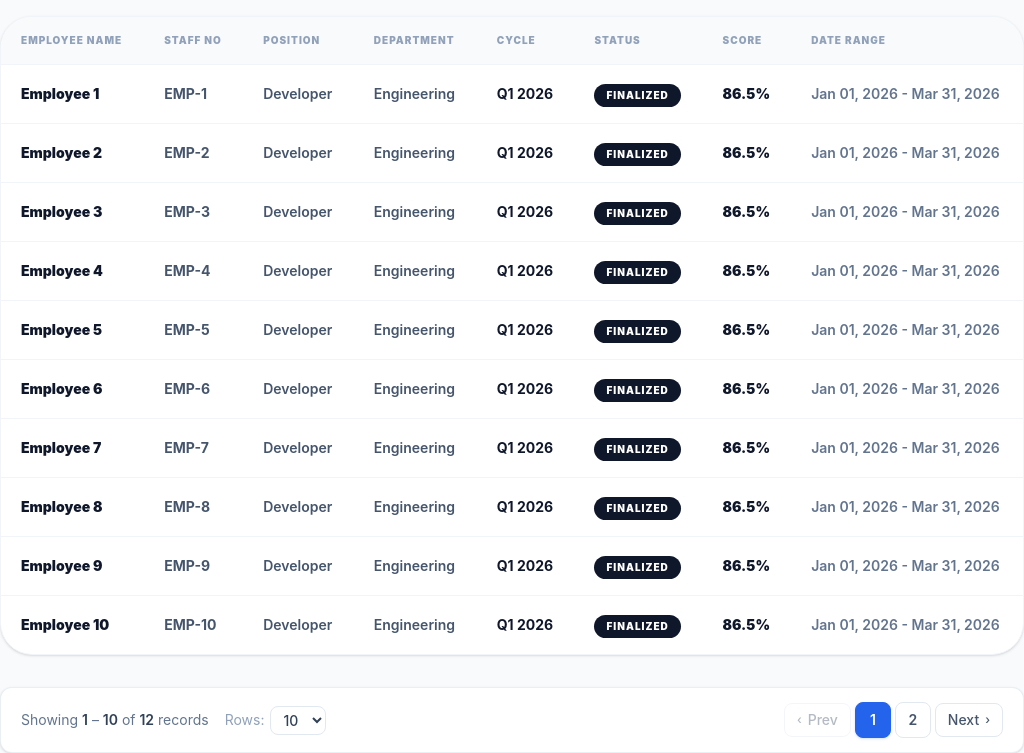
AppraisalHistoryPage › paginates filtered history rows
The image size is (1024, 753).
(page scrolled)
Expected: the text "Employee 1" is shown, [1,64,144,124]
Expected: the text "Showing 1 – 10 of 12 records" is shown, [21,710,209,730]
What coordinates should you click on to do the following:
click the button "2"
I would click on:
 (913, 720)
Its box is [895,702,931,738].
(page scrolled)
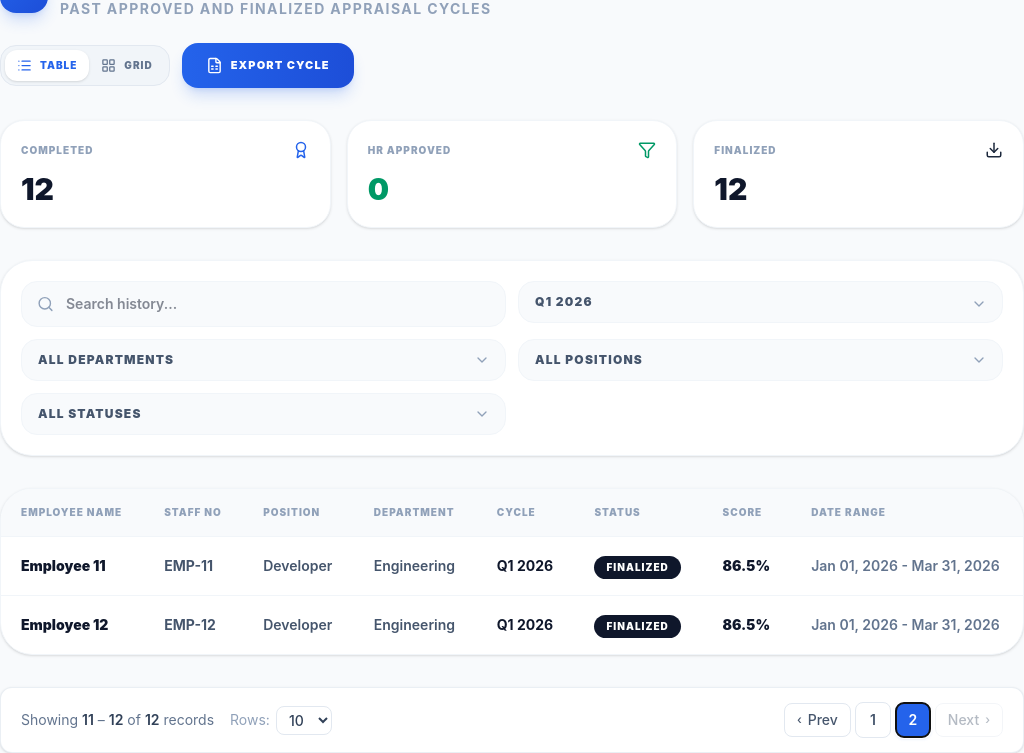
Now the text "Employee 11" is shown, box [1,536,144,596]
